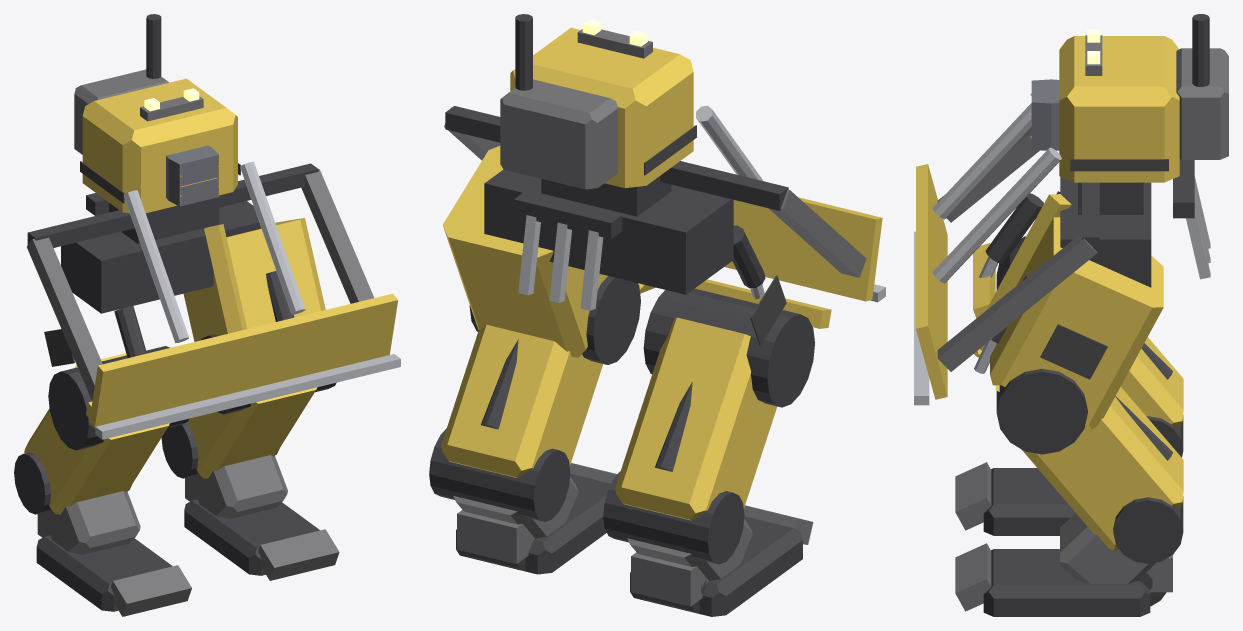
Rendered from grader.glb.
3 renders of one model, left to right at view 1: azimuth 30°, elevation 25°; view 2: azimuth 150°, elevation 25°; view 3: azimuth 270°, elevation 25°, orthographic. The views are drawn at different scales.
Parts seen in each view (by area): view 1: blade, torso, hips, thigh1, shin-1, shin1, foot-1_sole, foot1_sole, blade_edge, meta-1, meta1, push-1 (+21 smaller); view 2: shin-1, shin1, hips, torso, thigh1, engine, knee-1, blade, hock-1, hock1, foot-1_sole, foot1_sole (+24 smaller); view 3: thigh1, torso, shin1, foot1_sole, knee1, blade, engine, push1, foot-1_sole, hips, hock1, meta1 (+21 smaller).
Boxes of the visible parts, bbox=[...] form: blade: bbox=[89, 293, 397, 428]; torso: bbox=[82, 78, 237, 213]; hips: bbox=[61, 201, 261, 313]; thigh1: bbox=[183, 218, 325, 341]; shin-1: bbox=[24, 353, 169, 514]; shin1: bbox=[186, 387, 317, 478]; foot-1_sole: bbox=[36, 535, 172, 611]; foot1_sole: bbox=[184, 499, 319, 575]; blade_edge: bbox=[95, 354, 400, 439]; meta-1: bbox=[42, 491, 140, 554]; meta1: bbox=[189, 455, 287, 518]; push-1: bbox=[27, 237, 102, 399]; shin-1: bbox=[615, 317, 777, 520]; shin1: bbox=[441, 324, 603, 478]; hips: bbox=[484, 169, 733, 294]; torso: bbox=[510, 27, 693, 188]; thigh1: bbox=[442, 146, 655, 357]; engine: bbox=[500, 79, 617, 189]; knee-1: bbox=[643, 288, 814, 407]; blade: bbox=[724, 197, 882, 301]; hock-1: bbox=[603, 471, 744, 564]; hock1: bbox=[429, 428, 570, 521]; foot-1_sole: bbox=[630, 516, 802, 616]; foot1_sole: bbox=[456, 474, 610, 574]; thigh1: bbox=[974, 194, 1163, 428]; torso: bbox=[1059, 36, 1179, 182]; shin1: bbox=[1021, 387, 1183, 550]; foot1_sole: bbox=[983, 549, 1150, 616]; knee1: bbox=[996, 368, 1087, 454]; blade: bbox=[916, 164, 947, 399]; engine: bbox=[1176, 48, 1228, 159]; push1: bbox=[937, 233, 1097, 371]; foot-1_sole: bbox=[983, 468, 1075, 535]; hips: bbox=[1060, 176, 1151, 287]; hock1: bbox=[1113, 496, 1183, 563]; meta1: bbox=[1060, 513, 1155, 583].
Bounding box in the file's own units: 15.4 × 24.23 × 12.48.
